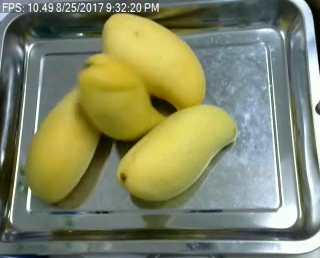Mango: (115, 103, 237, 204), (102, 12, 206, 111), (27, 87, 104, 201), (78, 55, 163, 137)
